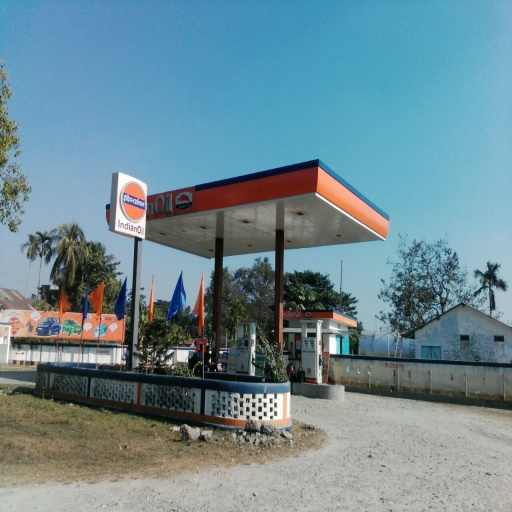roof: (103, 158, 388, 262)
